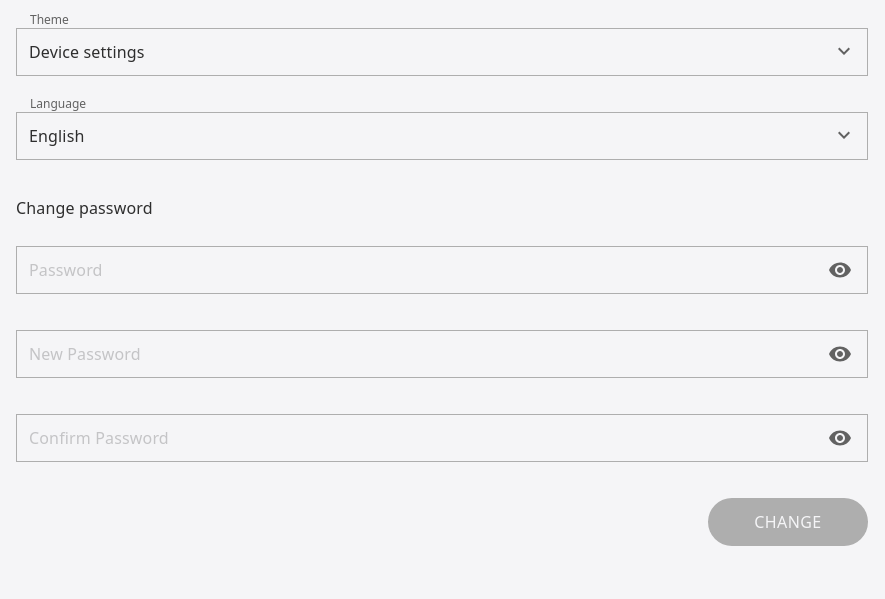
it: Settings › enables CHANGE only for valid passwords and sends the existing mutation
Expected: the button "Change" is disabled, [708,498,868,546]
Type "old-secret" into the password field labelled "Password" at (442, 270), box [16,246,868,294]
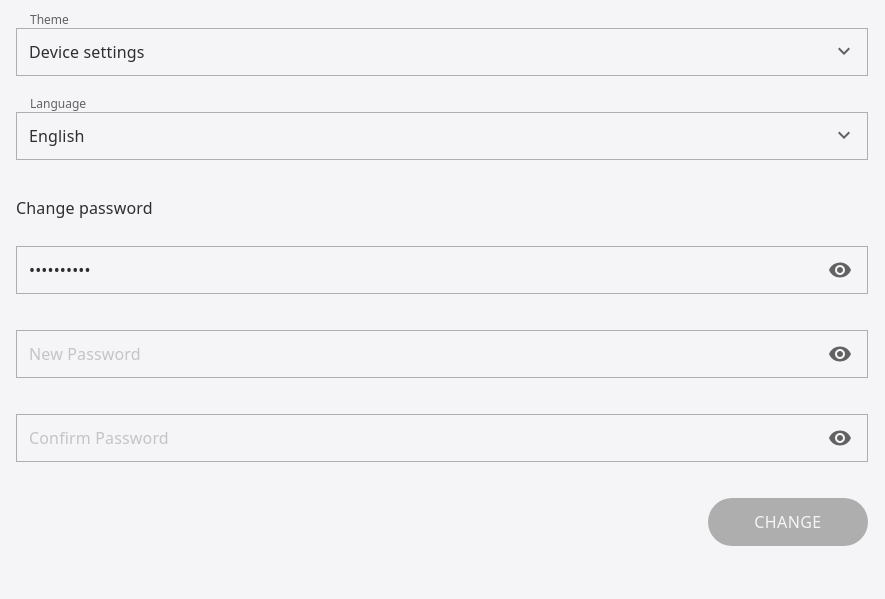
Type "new-secret" into the password field labelled "New Password" at (442, 354), box [16,330,868,378]
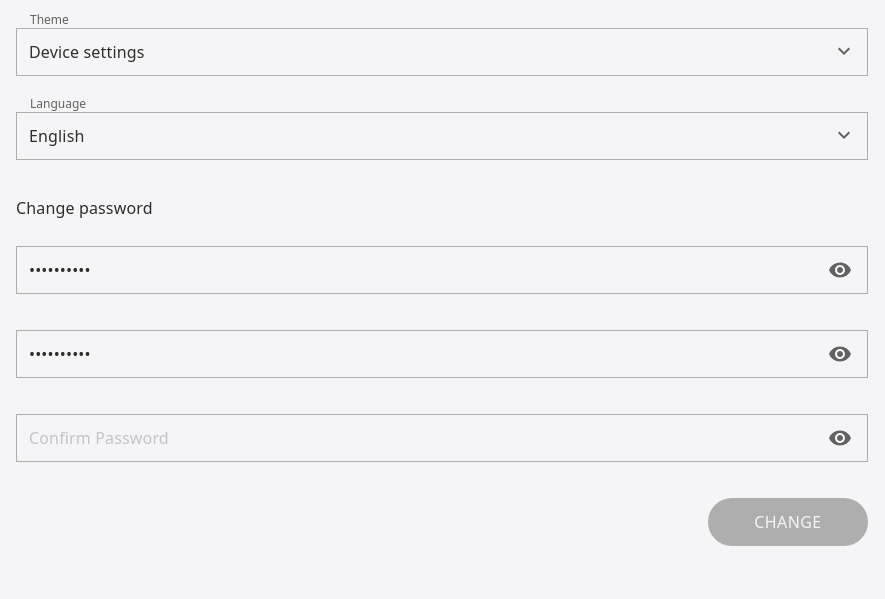
Type "other-secret" into the password field labelled "Confirm Password" at (442, 438), box [16,414,868,462]
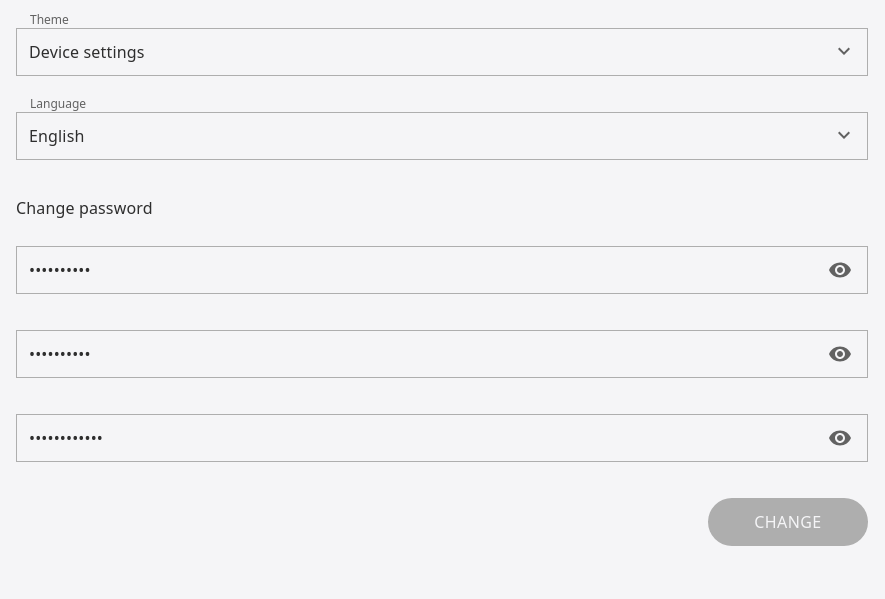
Leave the 3rd password field named "Confirm Password", box [16,414,868,462]
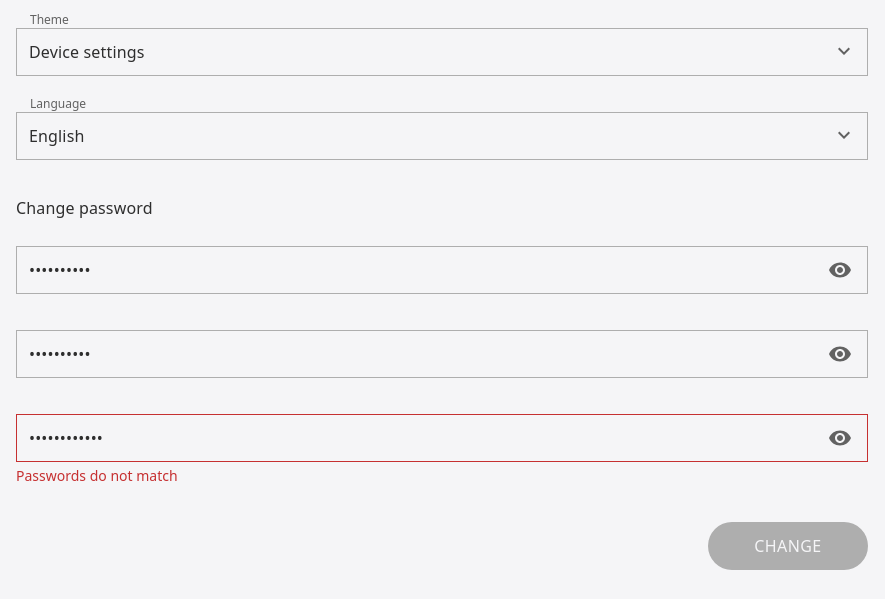
Expected: the button "Change" is disabled, [708,522,868,570]
Now the text "Passwords do not match" is shown, box [16,466,178,485]
Type "new-secret" into the 3rd password field named "Confirm Password" at (442, 438), box [16,414,868,462]
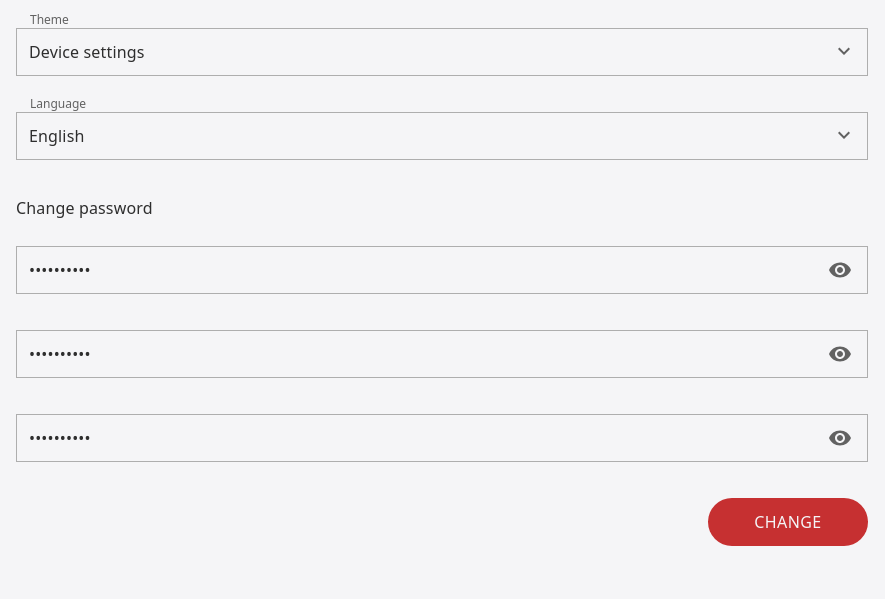
Now the button "Change" is enabled
Click the button "Change" at (788, 522), box [708,498,868,546]
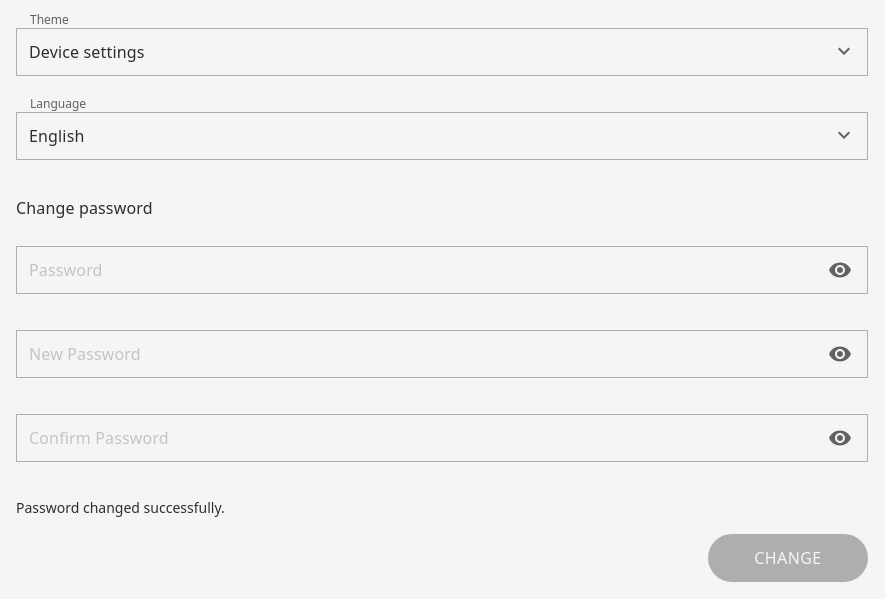
Now the message reads "Password changed successfully.", box [16,498,225,517]
Now the password field labelled "Password" is empty, box [16,246,868,294]
